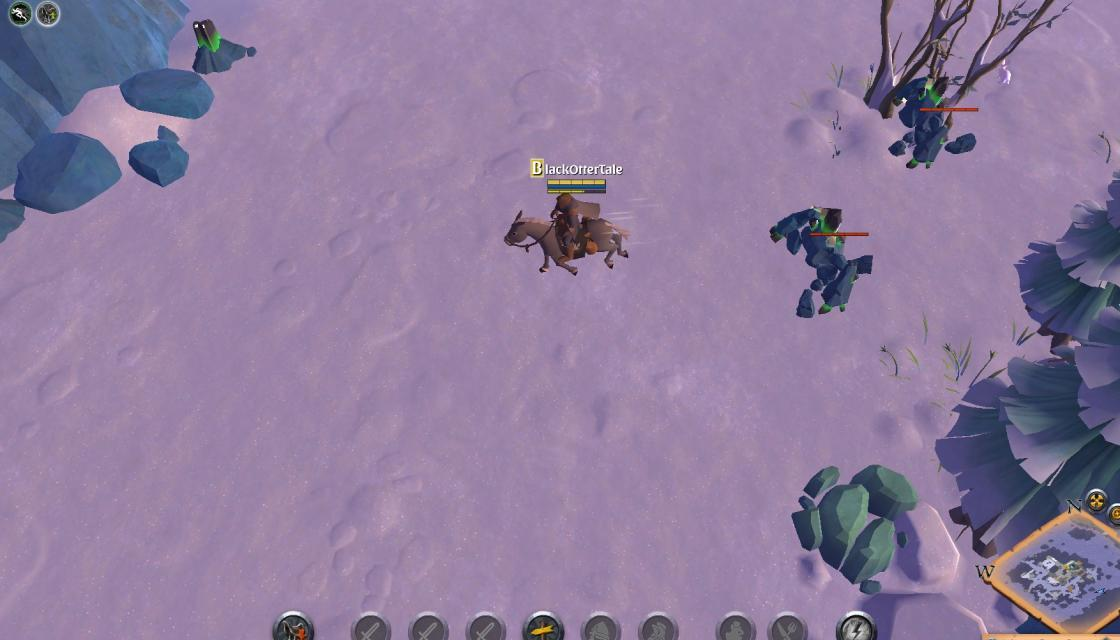sandstone: (792, 463, 920, 587)
tinore: (182, 16, 252, 73), (0, 173, 13, 247)
